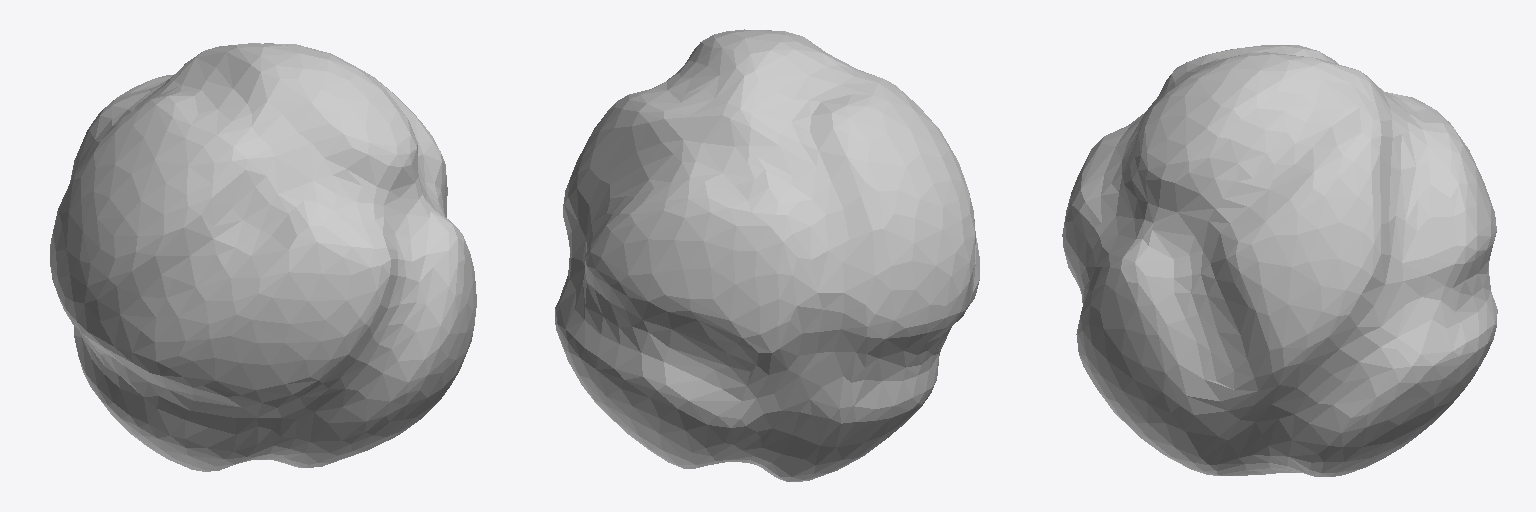
The model's file is planet_land.obj.
3 views of the same model, side by side, from view 1: azimuth 30°, elevation 25°; view 2: azimuth 150°, elevation 25°; view 3: azimuth 270°, elevation 25° (orthographic).
Bounding box in the file's own units: 67.91 × 70.11 × 68.29.